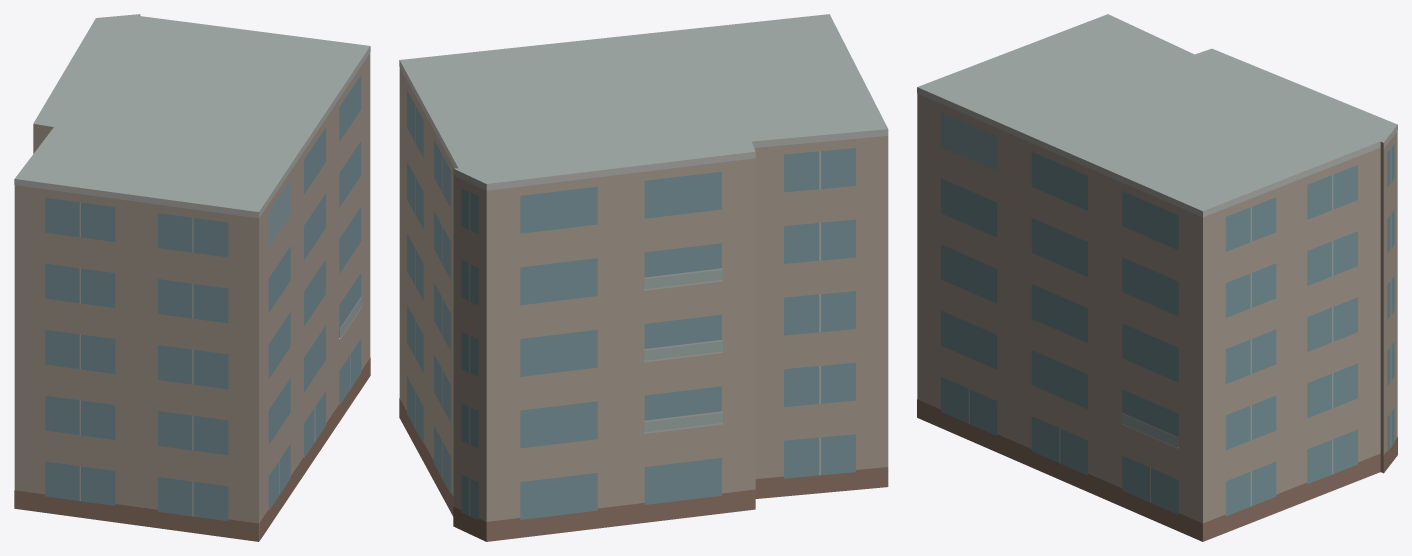
The model's file is survey-upis-32840186.glb.
3 renders of one model, left to right at view 1: azimuth 30°, elevation 25°; view 2: azimuth 150°, elevation 25°; view 3: azimuth 270°, elevation 25°, orthographic. The views are drawn at different scales.
Parts seen in each view (by area): view 1: survey-upis-32840186.tmp; view 2: survey-upis-32840186.tmp; view 3: survey-upis-32840186.tmp.
Part boxes in pixels (<box>): survey-upis-32840186.tmp: <box>14,14,370,541</box>; survey-upis-32840186.tmp: <box>399,14,888,541</box>; survey-upis-32840186.tmp: <box>917,14,1397,541</box>.
Bounding box in the file's own units: 16.71 × 13.05 × 17.2.
